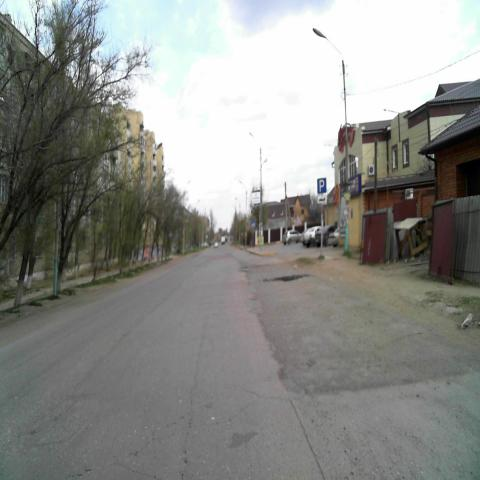6_4: (317, 178, 326, 194)
8_4_3: (317, 194, 327, 205)
